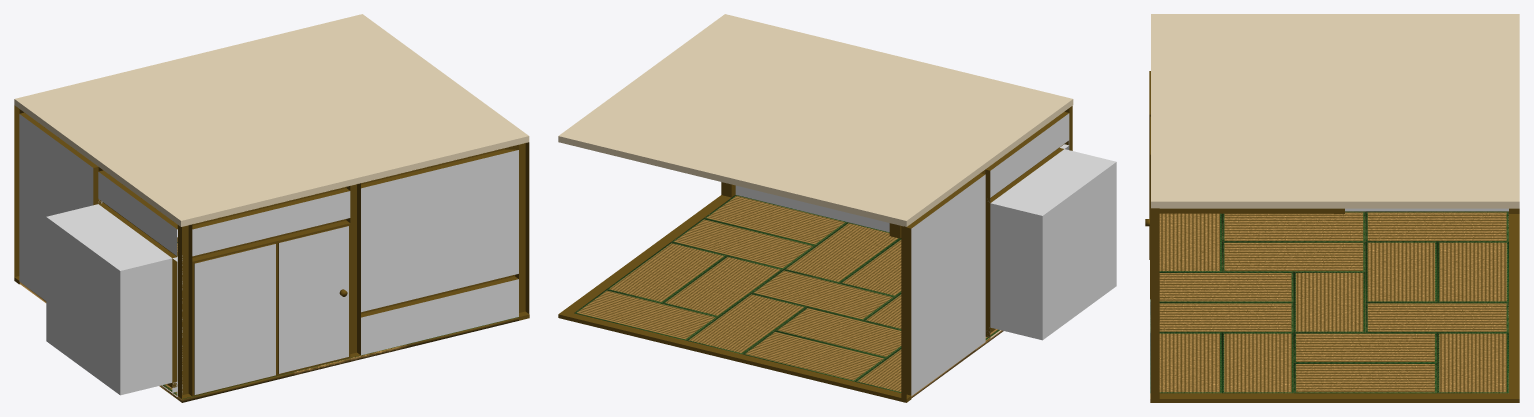
The model's file is world-meshopt.glb.
3 renders of one model, left to right at view 1: azimuth 30°, elevation 25°; view 2: azimuth 150°, elevation 25°; view 3: azimuth 270°, elevation 25°, orthographic. The views are drawn at different scales.
Bounding box in the file's own units: 32.08 × 13.93 × 23.51.
4 materials, 1 textured.
